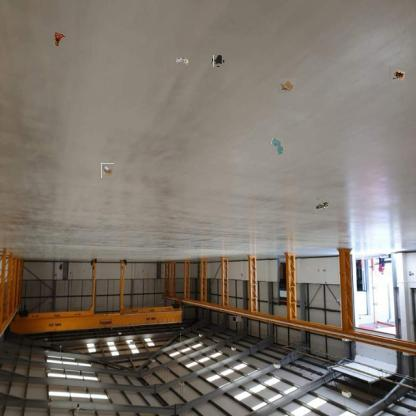dirty: (279, 77, 296, 93), (390, 66, 406, 82), (51, 30, 67, 46), (314, 199, 328, 213), (101, 163, 114, 178), (176, 56, 188, 66)
liquid: (269, 137, 283, 155), (213, 56, 223, 67)
